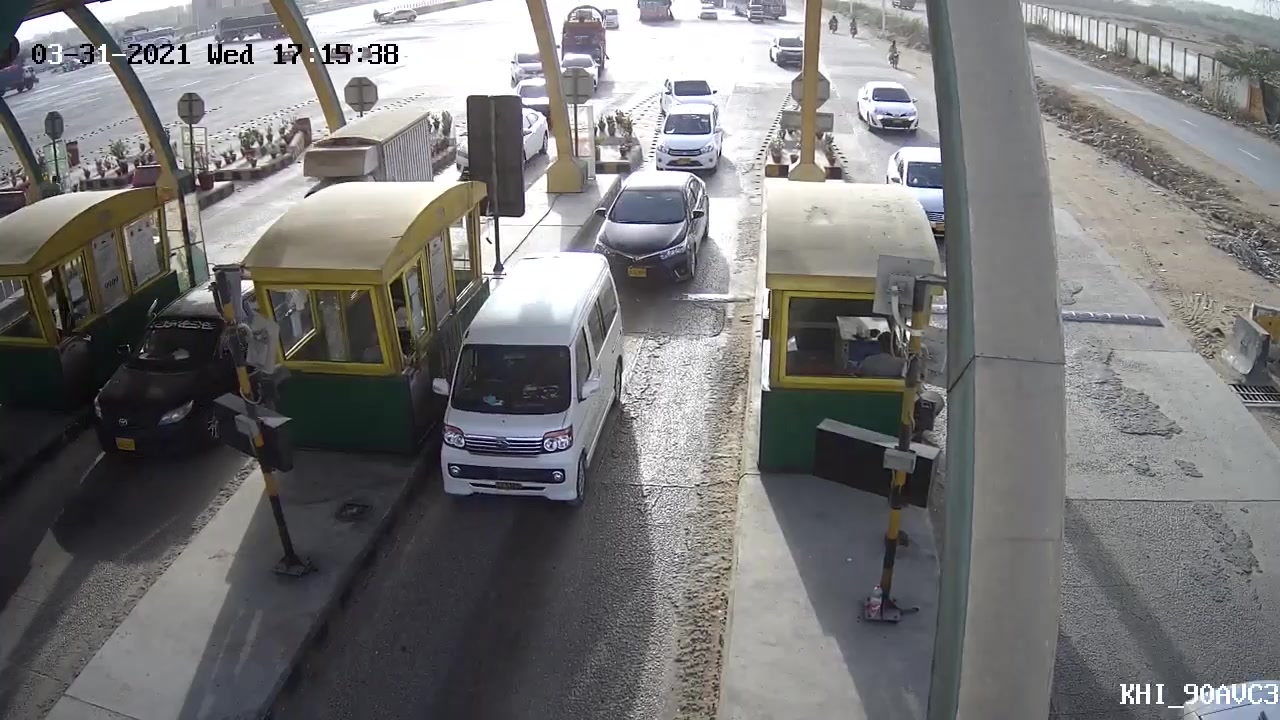F1: (424, 246, 627, 508), (592, 167, 713, 287)
